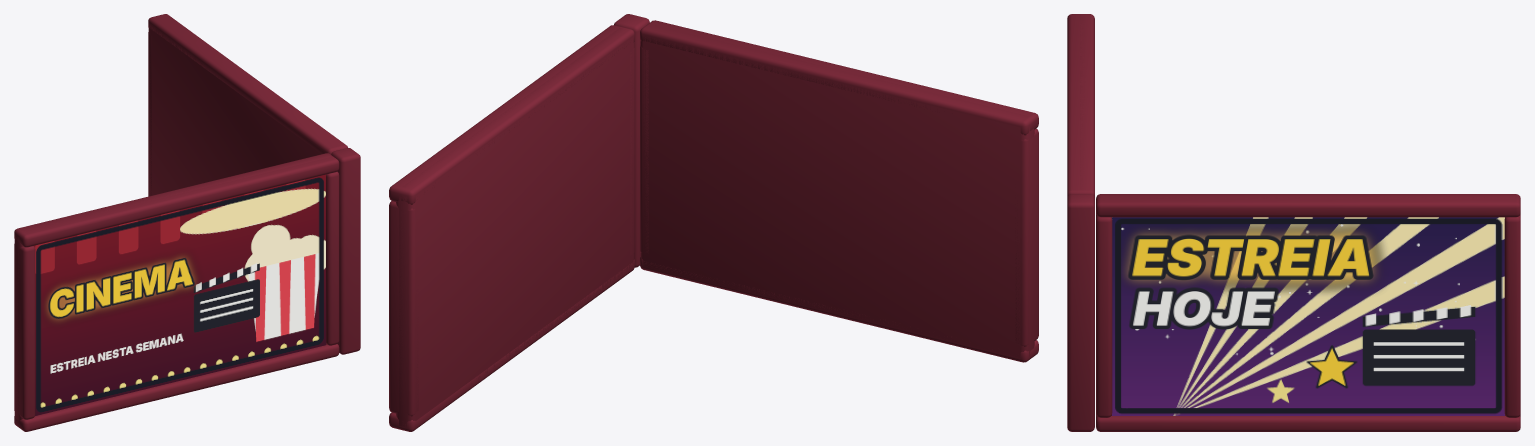
The model's file is painel_esquina_cinema.glb.
3 views of the same model, side by side, from view 1: azimuth 30°, elevation 25°; view 2: azimuth 150°, elevation 25°; view 3: azimuth 270°, elevation 25° (orthographic). The views are drawn at different scales.
Visible parts, largest first — view 1: painel_esquina_cinema; view 2: painel_esquina_cinema; view 3: painel_esquina_cinema.
Boxes of the visible parts, bbox=[...] form: painel_esquina_cinema: bbox=[14, 14, 360, 431]; painel_esquina_cinema: bbox=[389, 14, 1038, 431]; painel_esquina_cinema: bbox=[1067, 14, 1520, 431].
Size of the model in its own units: 3.93 by 2.19 by 3.93.
3 materials, 3 textured.
